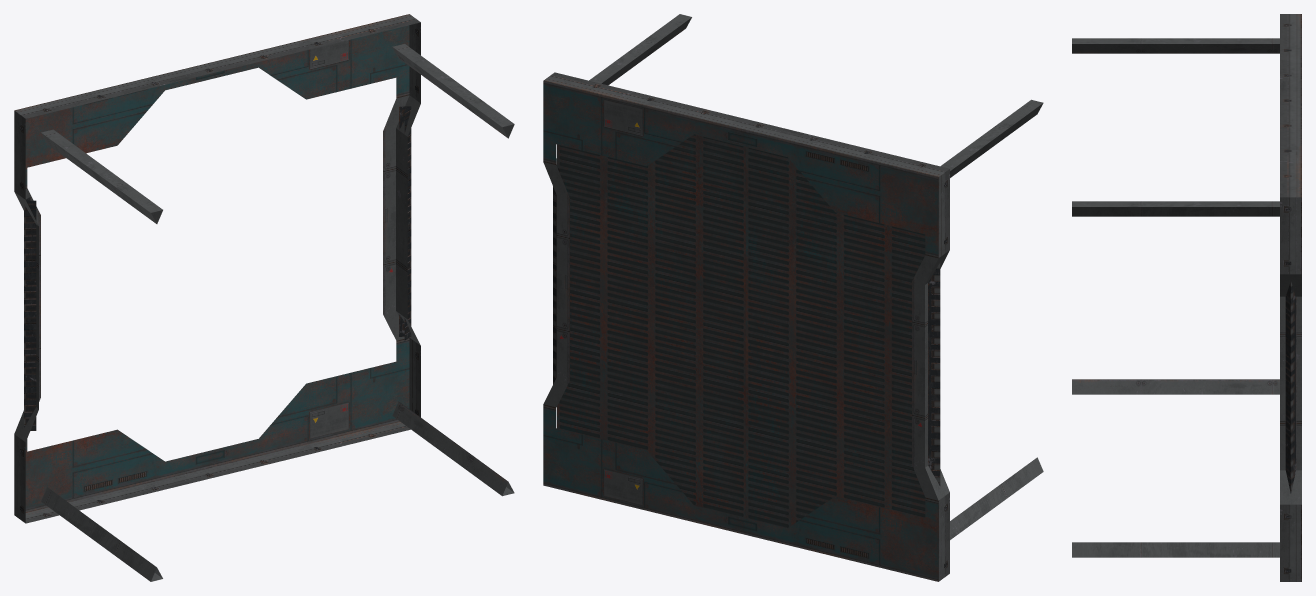
The model's file is ARC0910177.fbx.
The picture shows the model from 3 angles, left to right: view 1: azimuth 30°, elevation 25°; view 2: azimuth 150°, elevation 25°; view 3: azimuth 270°, elevation 25°; orthographic projection. The views are drawn at different scales.
Visible parts, largest first — view 1: smARC0910177; view 2: smARC0910177; view 3: smARC0910177.
Part boxes in pixels (left/top/right/bottom): smARC0910177: left=14, top=14, right=514, bottom=581; smARC0910177: left=543, top=14, right=1043, bottom=581; smARC0910177: left=1072, top=14, right=1301, bottom=581.
Bounding box in the file's own units: 294 × 288 × 156.
1 material, 1 textured.
